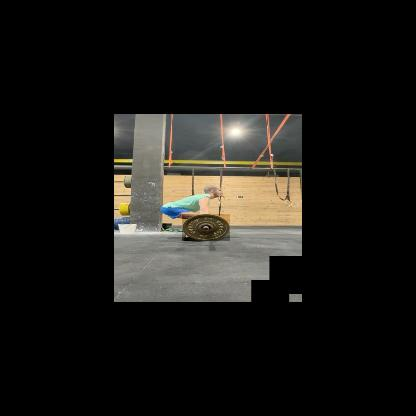barbell: (182, 214, 230, 241)
